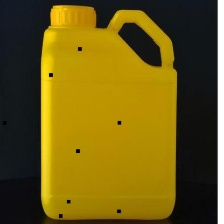insecticide: (37, 2, 178, 224)
